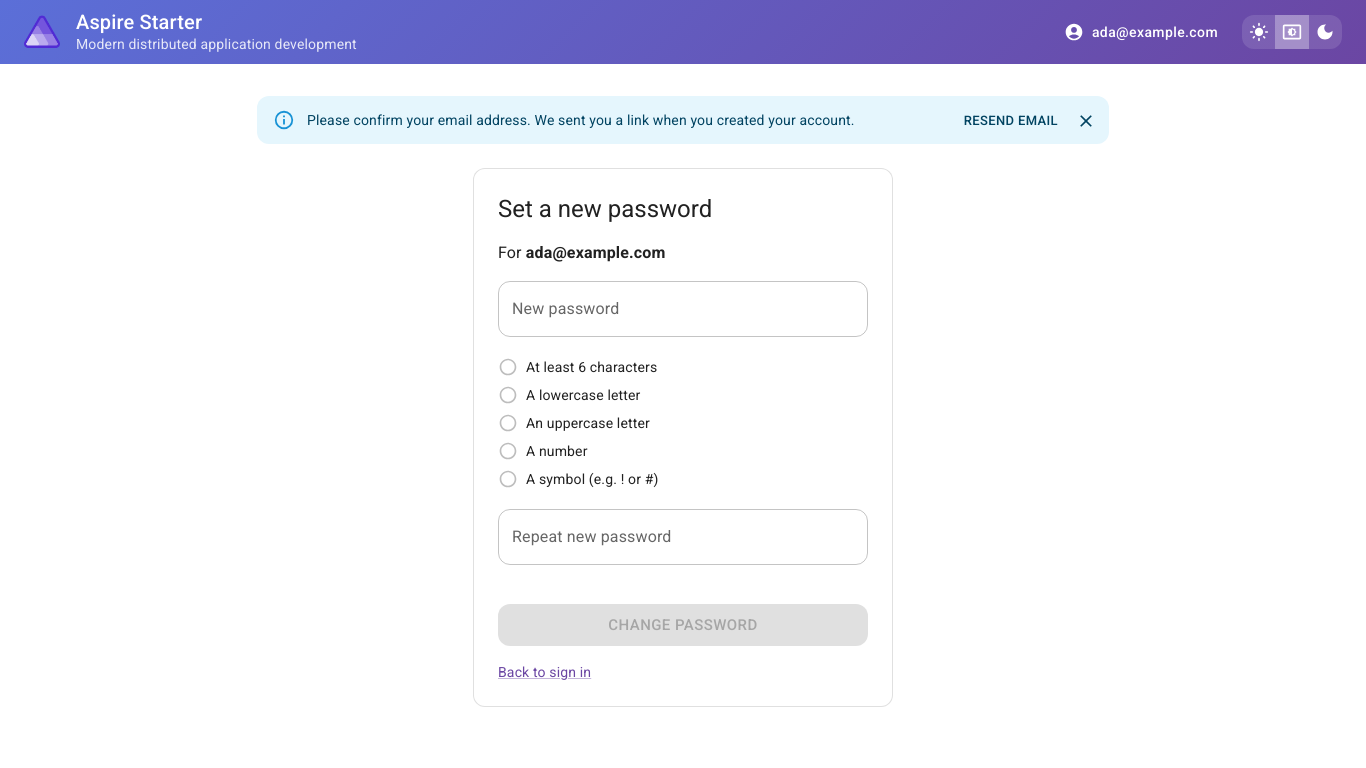
Scenario: ResetPasswordPage › lets a signed-in user request a new link from the expired view
In the password field labelled "New password": (683, 309) [498,281,868,337], type "N3wPassw0rd!"
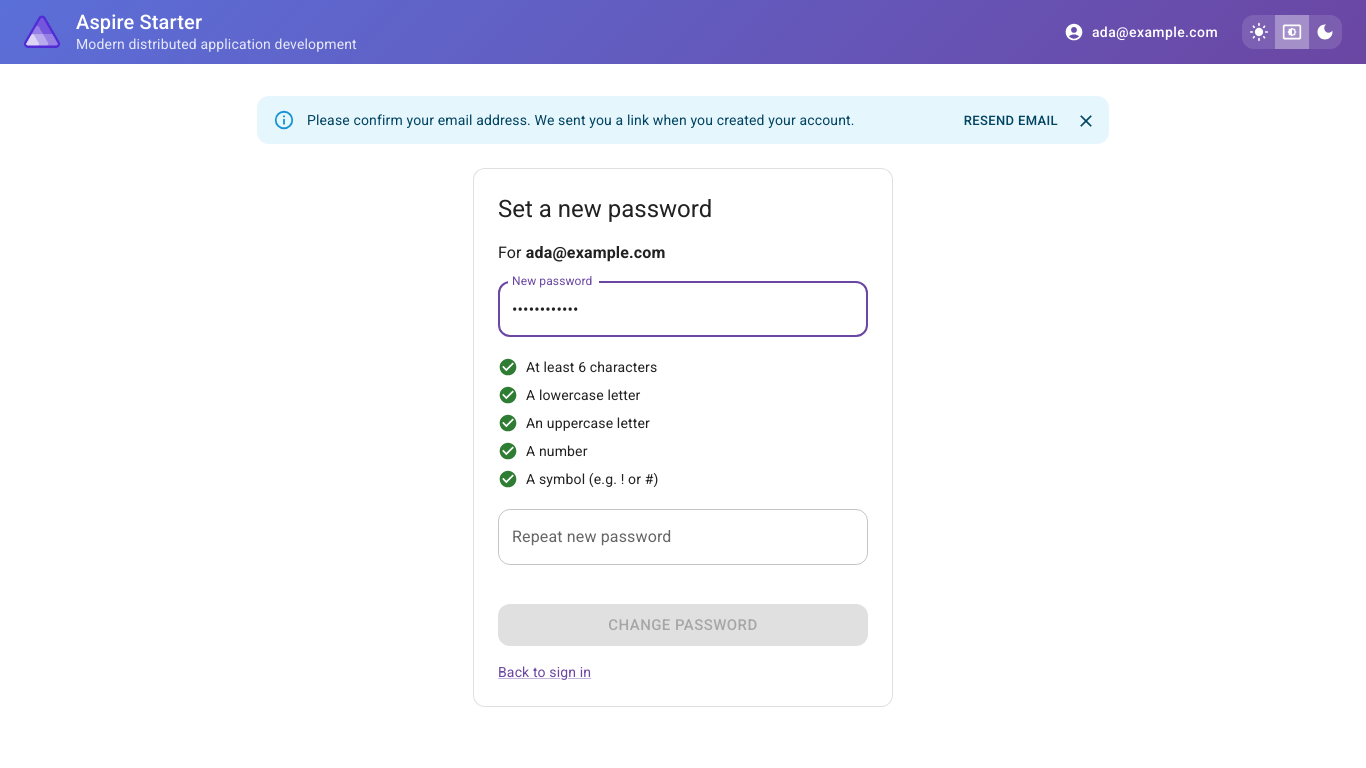
In the password field labelled "Repeat new password": (683, 537) [498,509,868,565], type "N3wPassw0rd!"
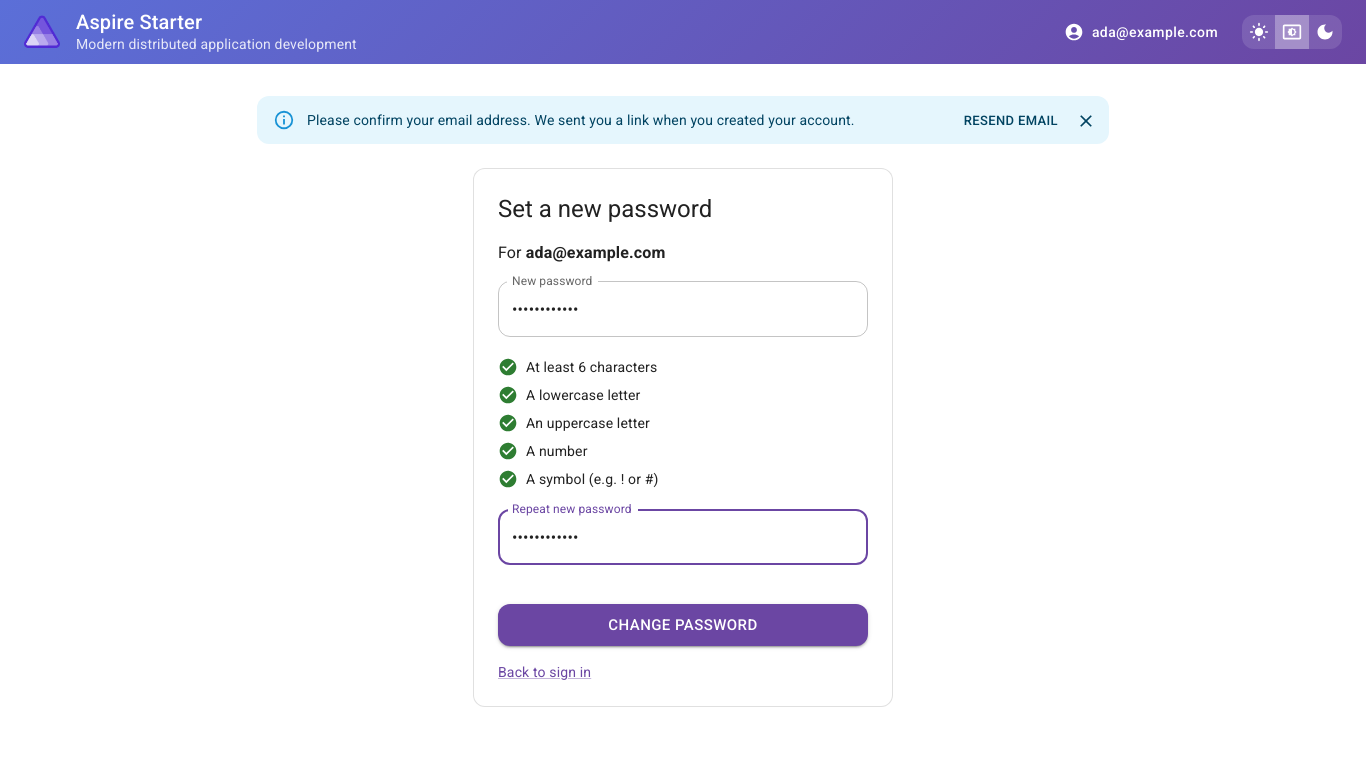
Click the button "Change password": (683, 625) [498,604,868,646]
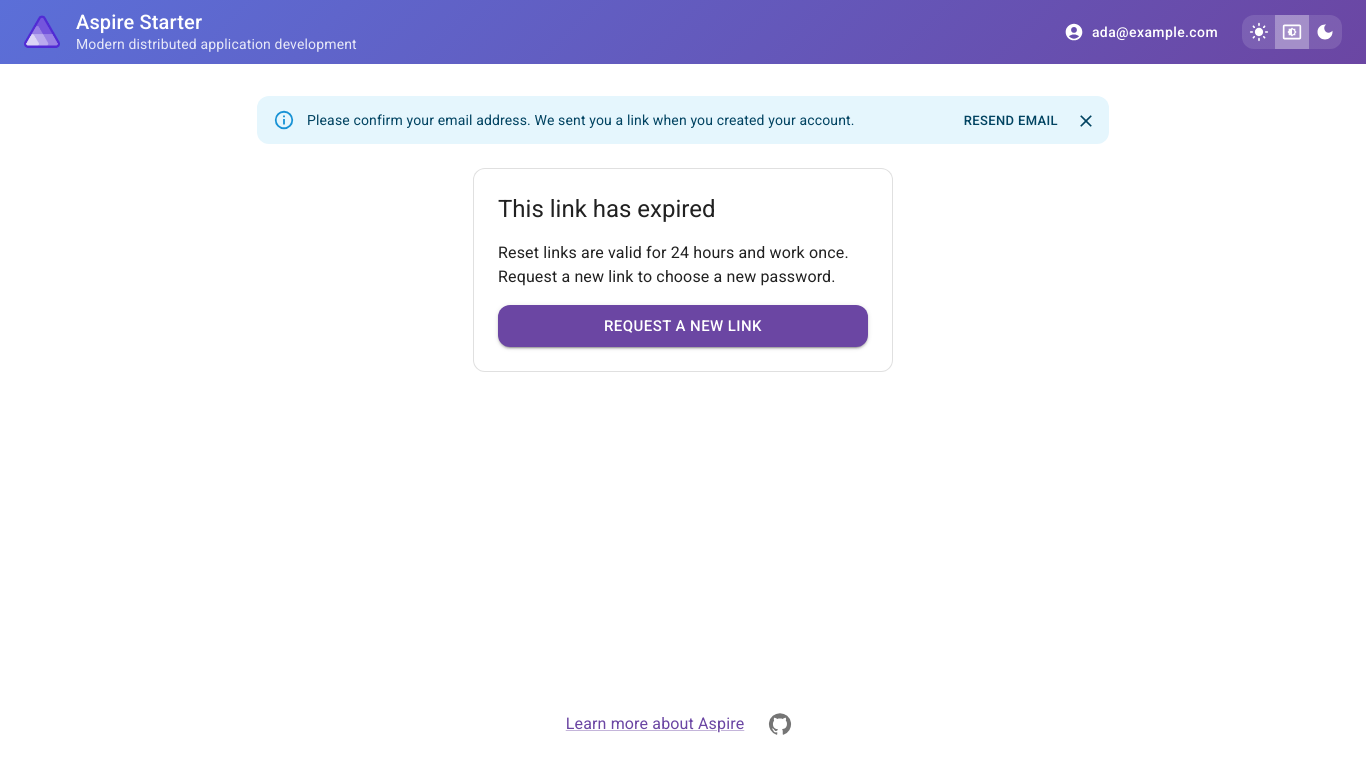
Click the link "Request a new link": (683, 326) [498,305,868,347]
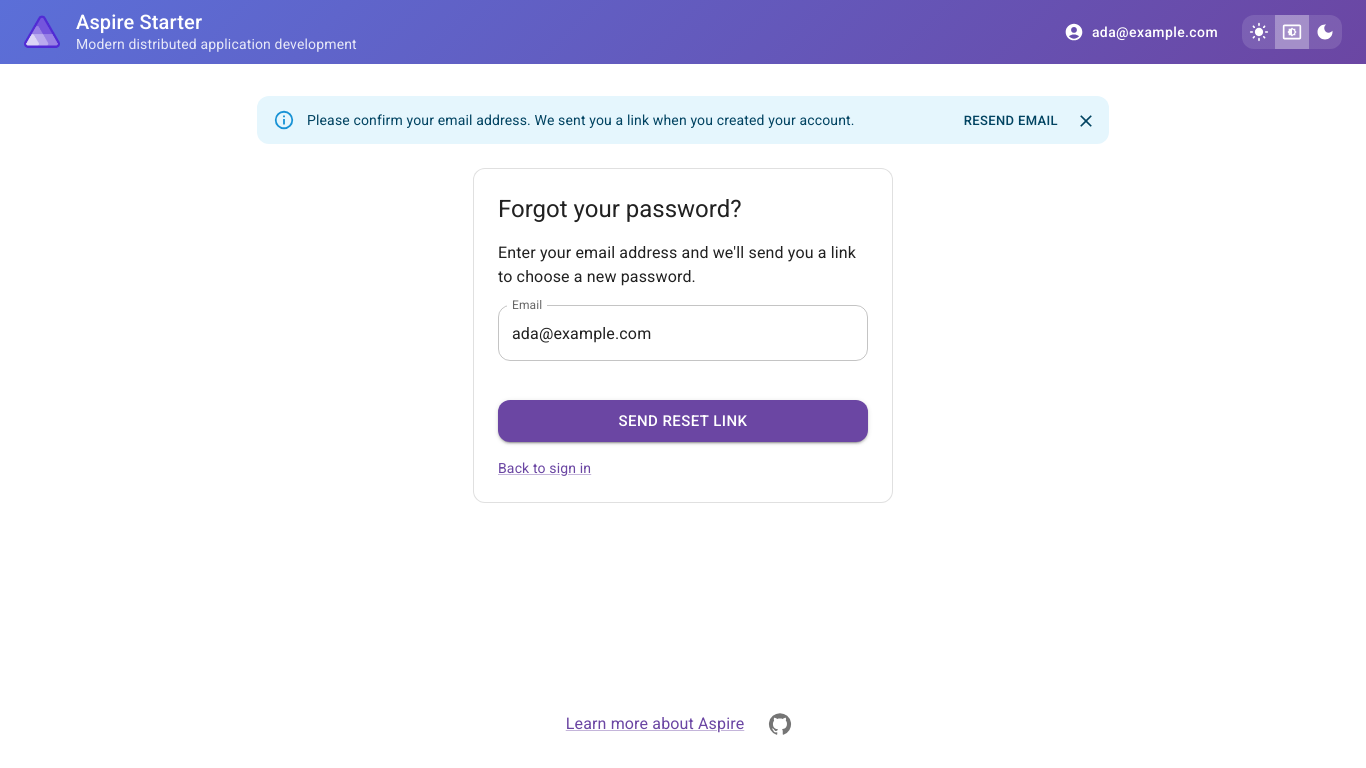
Expected: the field labelled "Email" holds "ada@example.com", [498,305,868,361]
